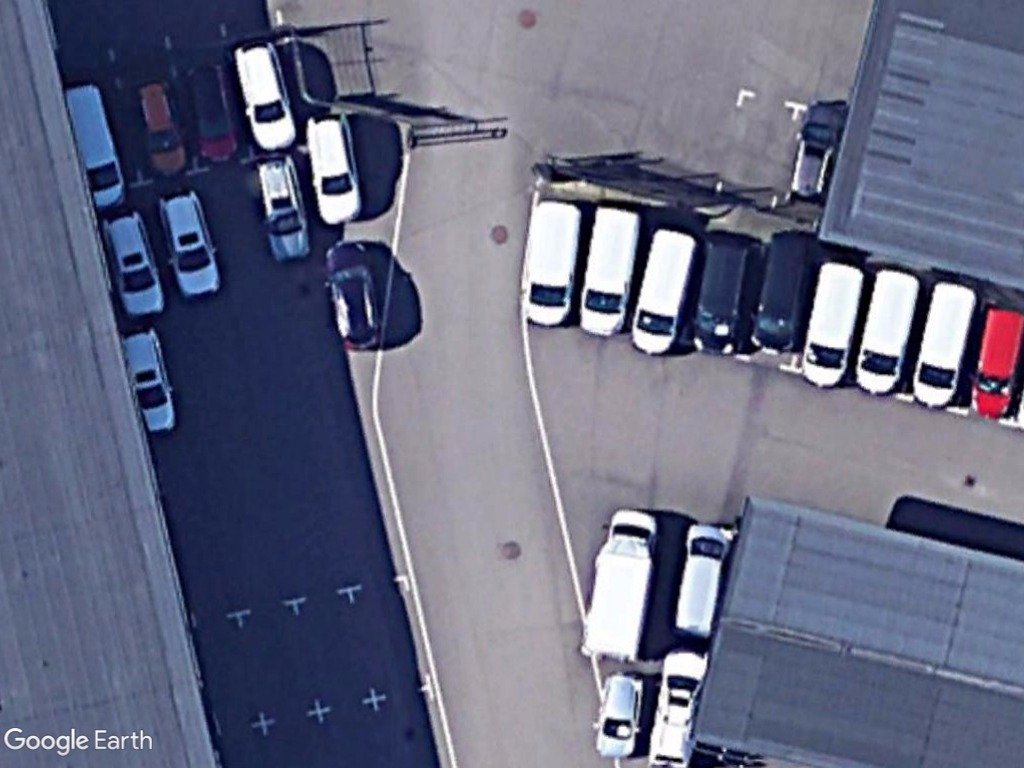car: (97, 202, 169, 321), (225, 36, 298, 153), (152, 186, 225, 301), (306, 110, 370, 231), (249, 148, 316, 262), (324, 238, 389, 355), (591, 667, 654, 764)
truck: (576, 503, 666, 661)
van: (624, 224, 703, 363), (848, 266, 924, 403), (575, 201, 644, 343), (907, 277, 981, 408), (801, 256, 870, 391), (668, 517, 739, 642), (521, 196, 586, 328), (963, 304, 1024, 419)
